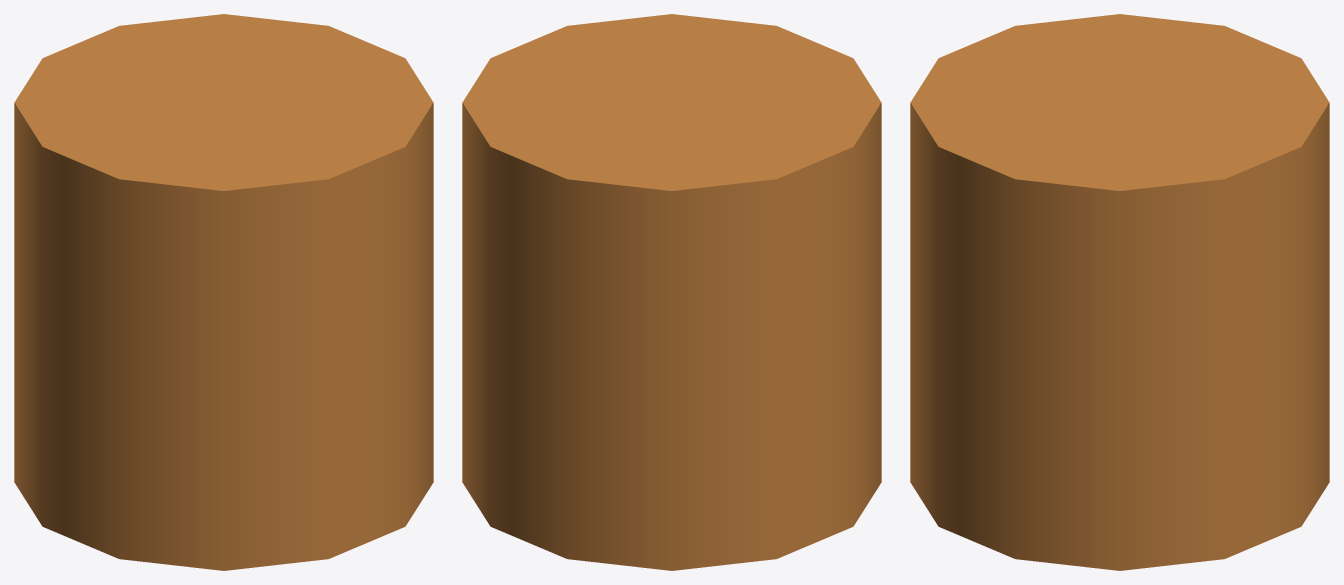
File: static.glb
3 views of the same model, side by side, from view 1: azimuth 30°, elevation 25°; view 2: azimuth 150°, elevation 25°; view 3: azimuth 270°, elevation 25° (orthographic).
Visible parts, largest first — view 1: Body; view 2: Body; view 3: Body.
Boxes of the visible parts, x1,y1,x2,y2 form: Body: (14,14,433,570); Body: (462,14,881,570); Body: (910,14,1329,570).
Bounding box in the file's own units: 1 × 1 × 1.
